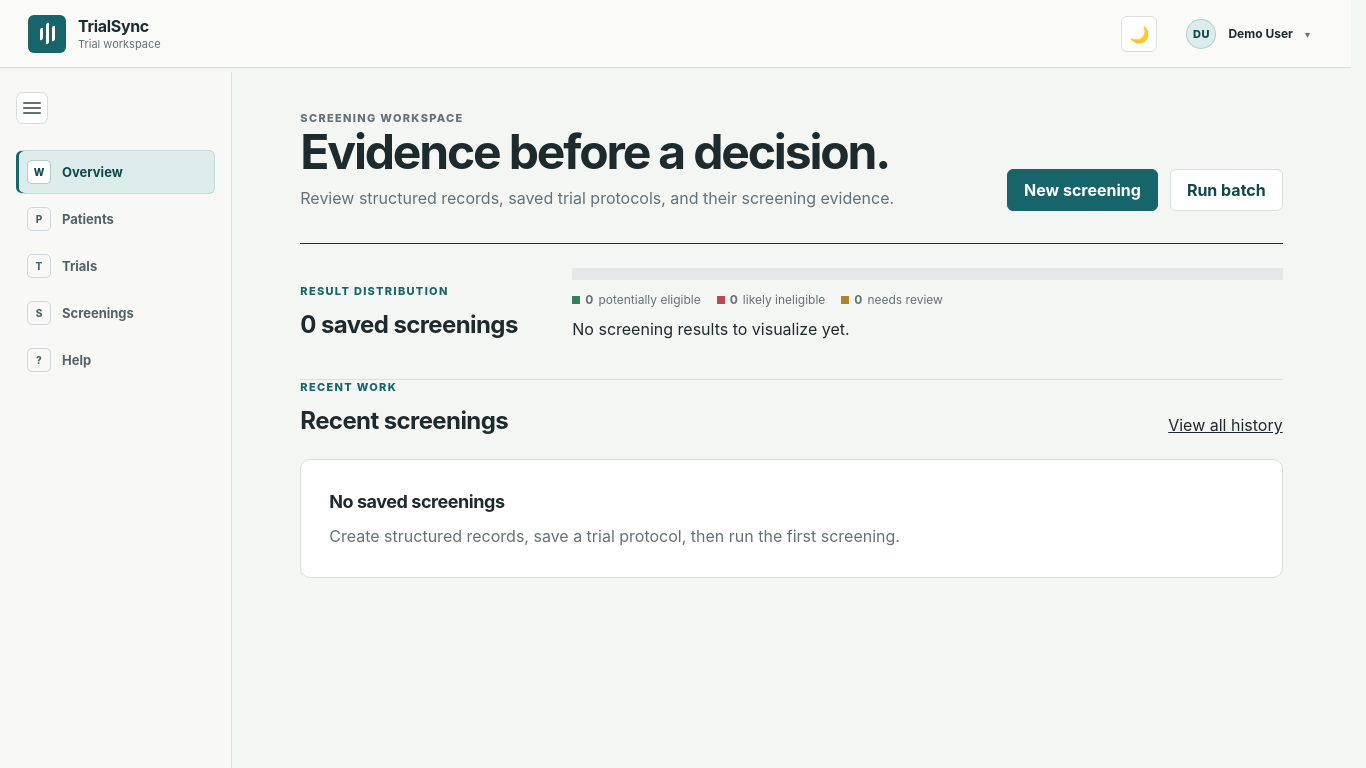
Test case: TrialSync Phase 5 screening workflow › collapses the navigation, persists the preference, and keeps sign out in the account menu
The width and height of the screenshot is (1366, 768).
expect the heading "No saved screenings" is shown: met, box x1=329 y1=491 x2=505 y2=512
Click the button with aria-label "account menu": (1248, 34) x1=1174 y1=12 x2=1323 y2=56
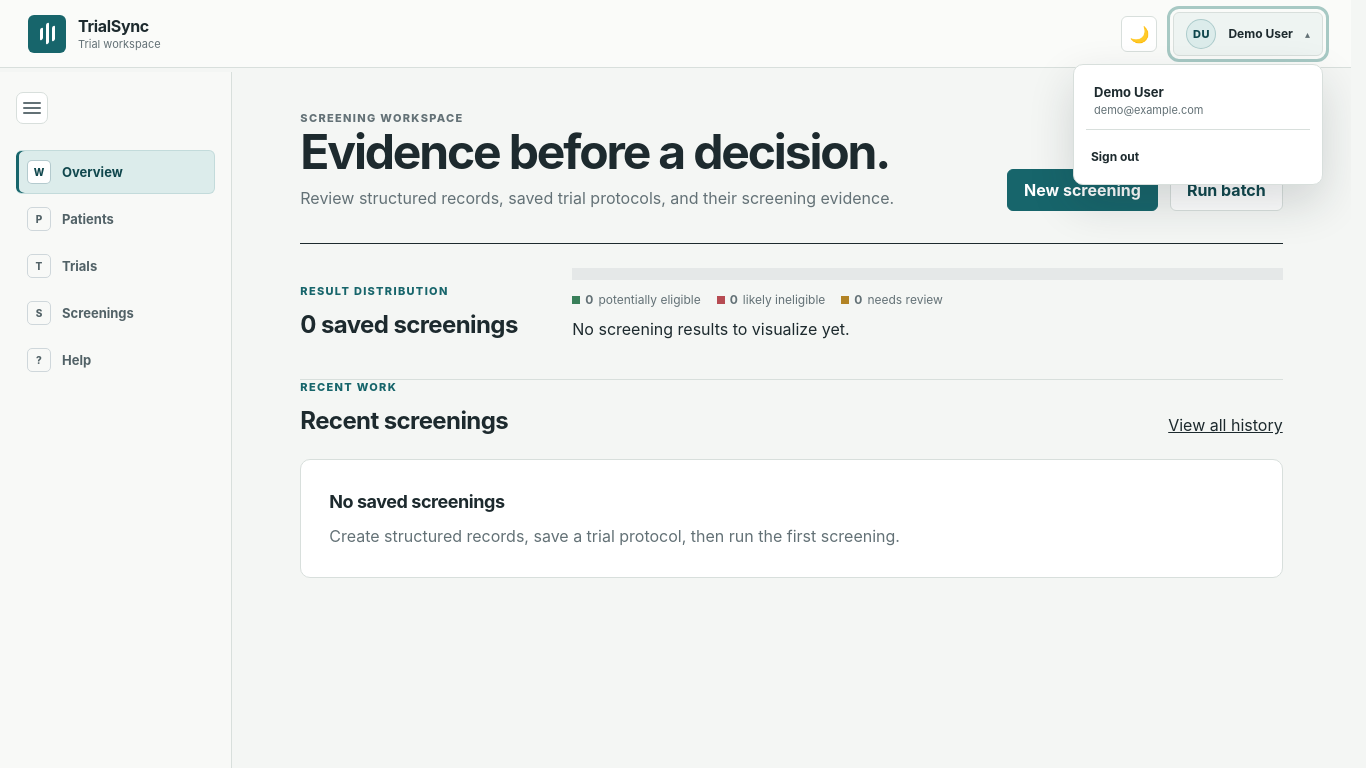
expect the menu item "Sign out" is shown: met, box x1=1082 y1=138 x2=1314 y2=176
Click the button named "Collapse navigation": (32, 108) x1=16 y1=92 x2=48 y2=124
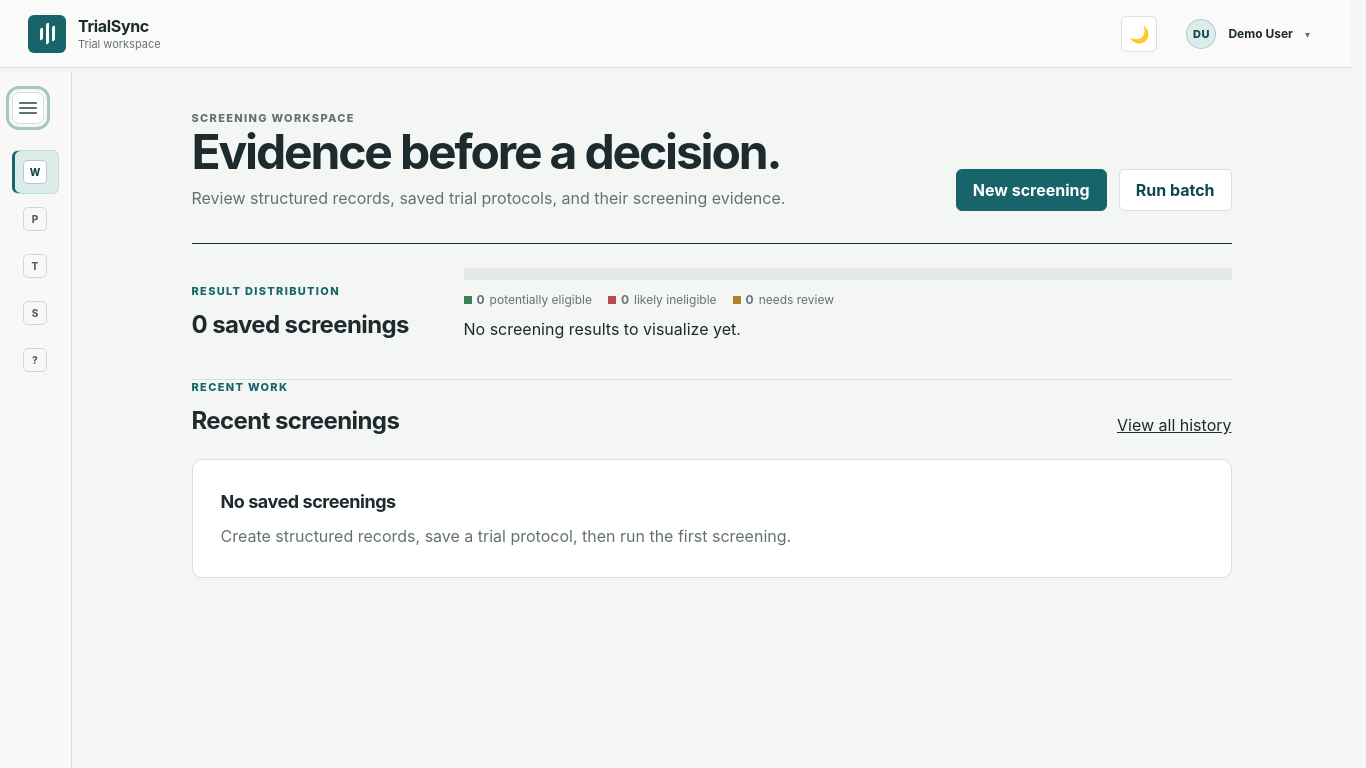
expect the button named "Expand navigation" is shown: met, box x1=12 y1=92 x2=44 y2=124
